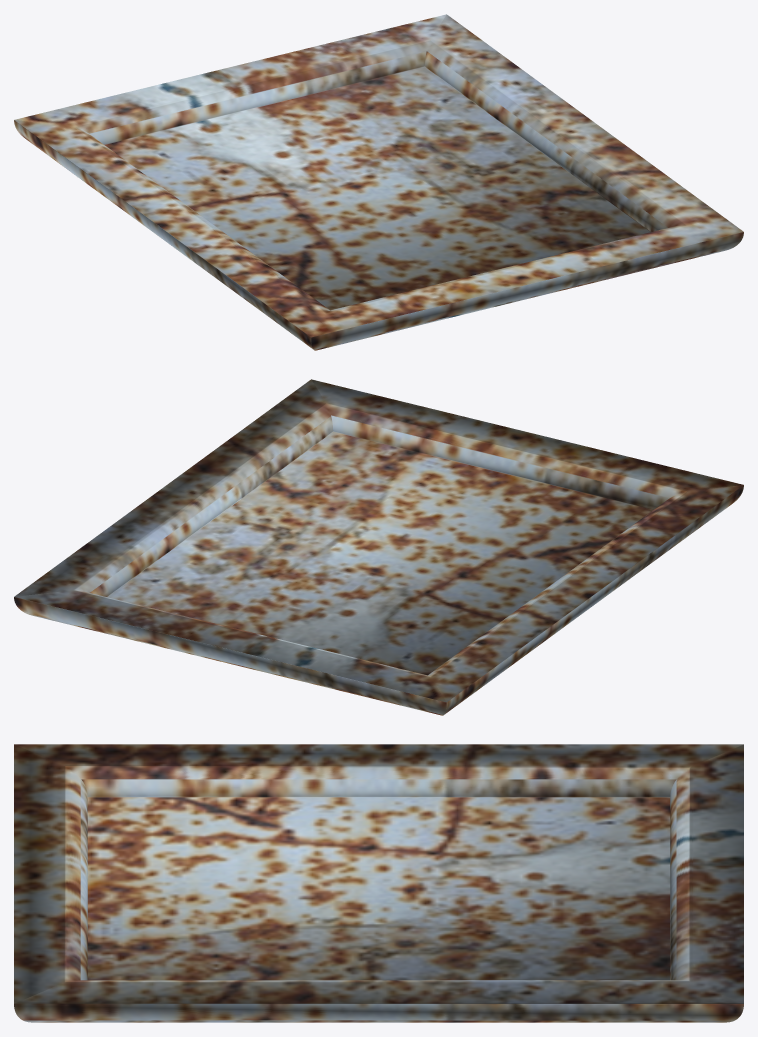
The model's file is Tray.fbx.
The picture shows the model from 3 angles, top to bottom: view 1: azimuth 30°, elevation 25°; view 2: azimuth 150°, elevation 25°; view 3: azimuth 270°, elevation 25°; orthographic projection. The views are drawn at different scales.
Parts seen in each view (by area): view 1: Tray; view 2: Tray; view 3: Tray.
Part boxes in pixels (x1,y1,x2,y2): Tray: (14, 14, 743, 350); Tray: (14, 379, 743, 715); Tray: (14, 744, 743, 1022).
Size of the model in its own units: 43.27 by 2.27 by 51.47.
